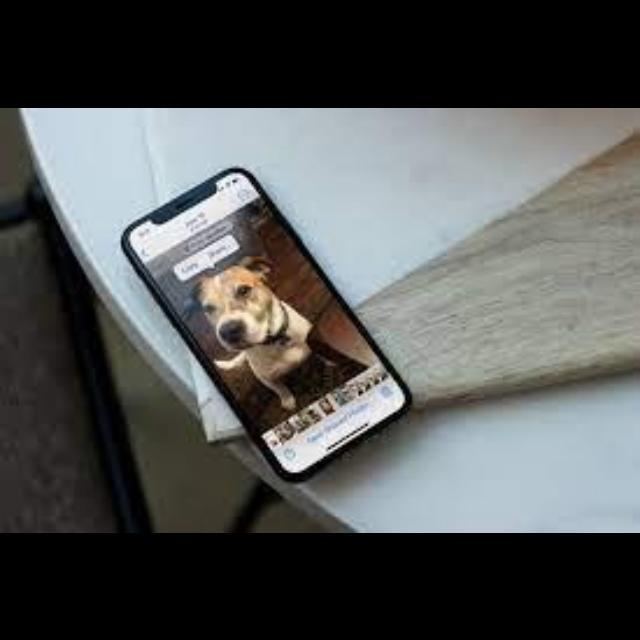phone: (119, 159, 415, 487)
